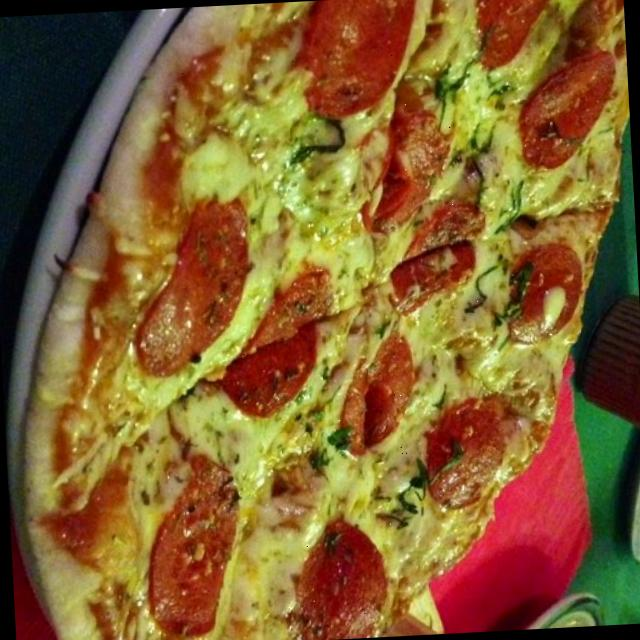pepperoni: (111, 190, 268, 388), (203, 262, 348, 436), (136, 452, 247, 640), (495, 45, 632, 188), (274, 0, 431, 123), (408, 368, 537, 512), (362, 72, 459, 242), (286, 512, 400, 640), (487, 234, 598, 351), (394, 185, 484, 326), (326, 334, 424, 456), (450, 0, 561, 69)
pizza: (19, 0, 630, 640)
